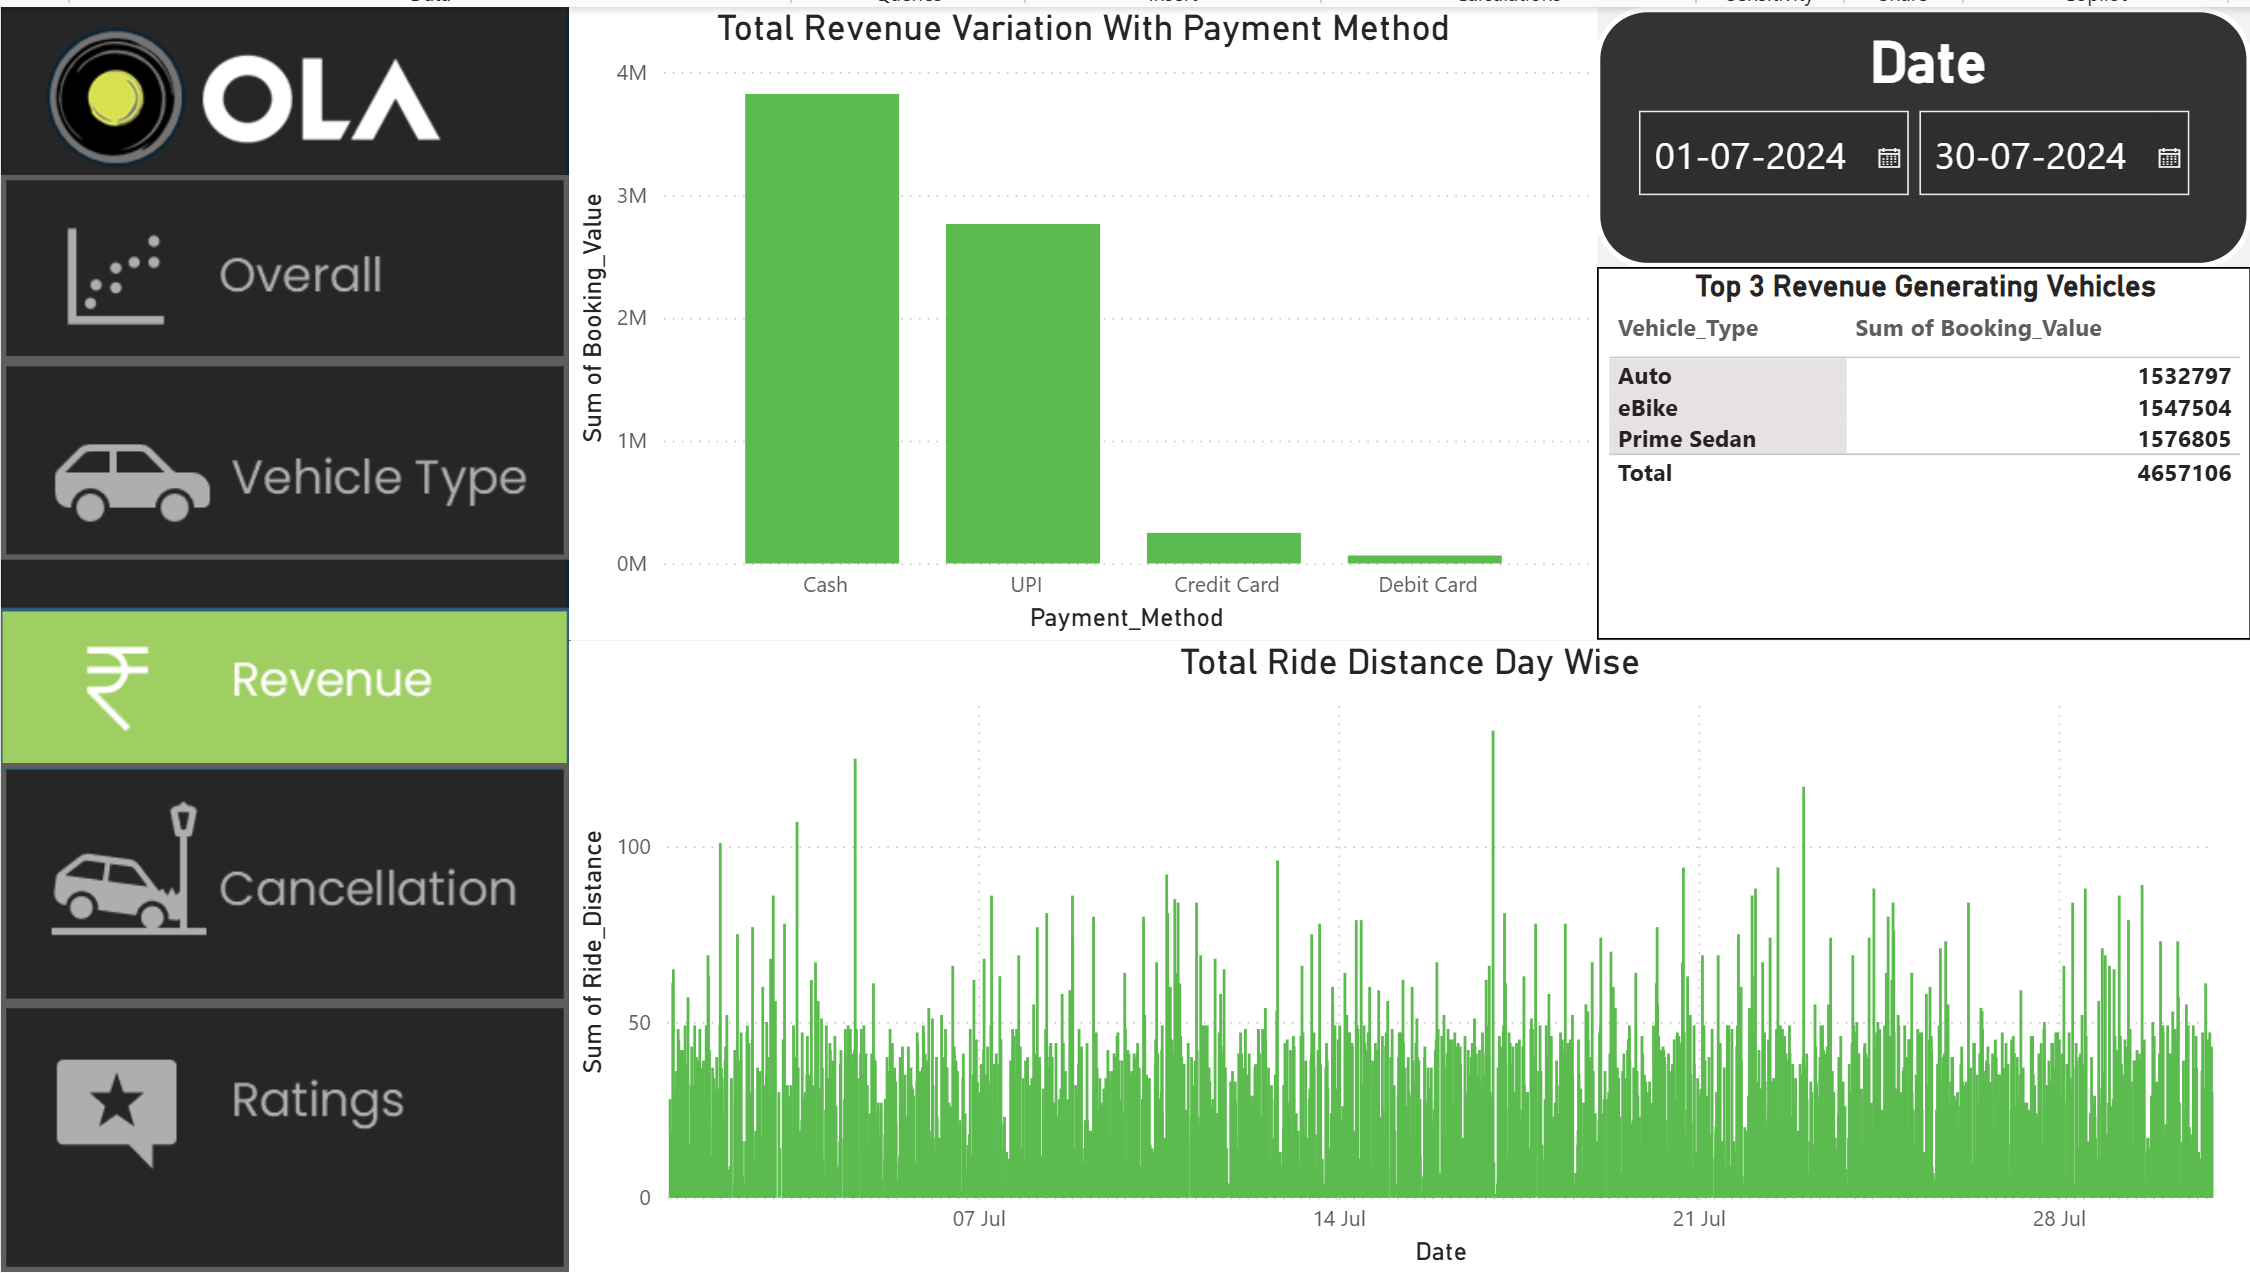

The dashboard page shown, as its layout file describes it:
{"tool":"powerbi","page":{"name":"Page 3","canvas":[1280,720],"ordinal":2},"visuals":[{"type":"actionButton","box":[0,201,323,113],"z":0},{"type":"actionButton","box":[0,430,323,137],"z":1000},{"type":"actionButton","box":[0,567,323,153],"z":2000},{"type":"actionButton","box":[0,95,323,106],"z":3000},{"type":"columnChart","title":"Total Revenue Variation With Payment Method","fields":{"Category":["OlaData.Payment_Method"],"Y":["Sum(OlaData.Booking_Value)"]},"box":[323.3,0,585,360],"z":4000},{"type":"columnChart","title":"Total Ride Distance Day Wise","fields":{"Category":["OlaData.Date"],"Y":["Sum(OlaData.Ride_Distance)"]},"box":[323.3,360,956.7,360],"z":5000},{"type":"slicer","title":"Date","fields":{"Values":["OlaData.Date"]},"box":[906.7,0,373.3,148.3],"z":6000},{"type":"tableEx","title":"Top 3 Revenue Generating Vehicles","fields":{"Values":["OlaData.Vehicle_Type","Sum(OlaData.Booking_Value)"]},"box":[908,148,372,212],"z":6001}]}

Visuals, with their boxes on the page's 1280x720 design canvas (x1, y1, x2, y2). These are canvas units, not pixel positions in the 2250x1273 screenshot, which may show the page scaled, cropped or inside an application window:
actionButton: 0 201 323 314
actionButton: 0 430 323 567
actionButton: 0 567 323 720
actionButton: 0 95 323 201
"Total Revenue Variation With Payment Method" columnChart: 323 0 908 360
"Total Ride Distance Day Wise" columnChart: 323 360 1280 720
"Date" slicer: 907 0 1280 148
"Top 3 Revenue Generating Vehicles" tableEx: 908 148 1280 360
